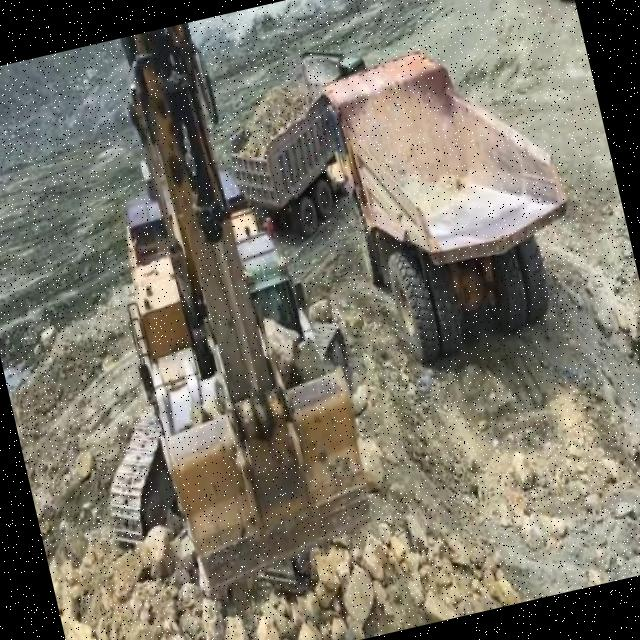Dump Truck: (316, 25, 599, 382), (208, 36, 402, 252), (533, 0, 575, 36)
Excavator: (0, 3, 401, 639)
